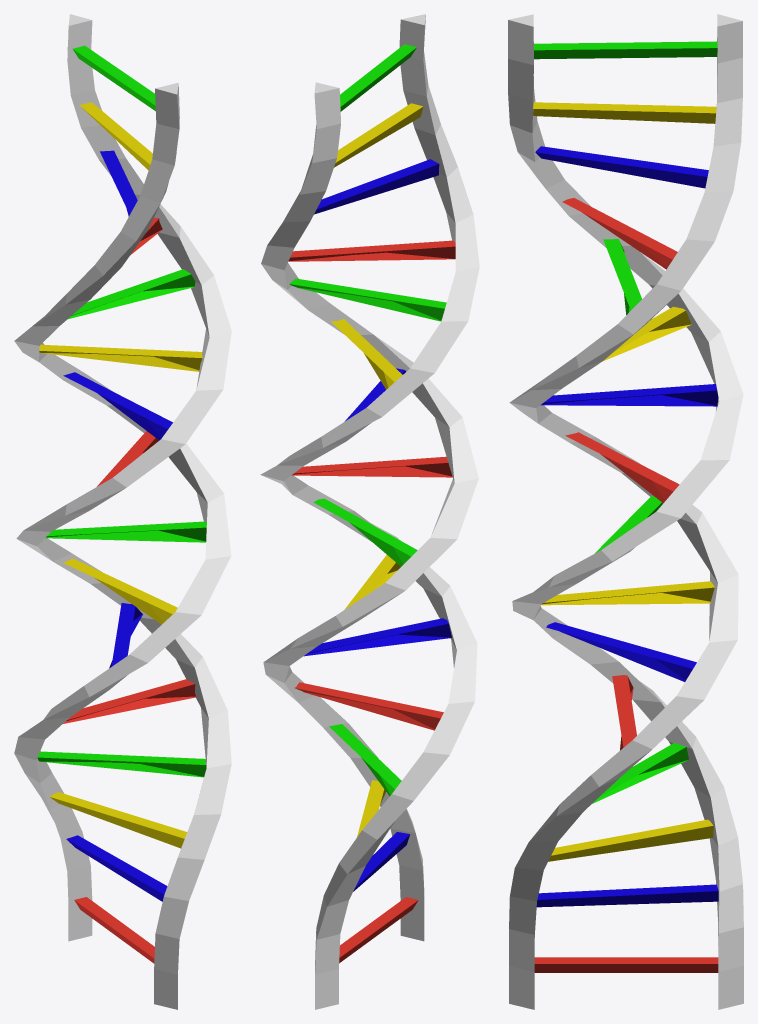
The model's file is DNA.fbx.
The picture shows the model from 3 angles, left to right: view 1: azimuth 30°, elevation 25°; view 2: azimuth 150°, elevation 25°; view 3: azimuth 270°, elevation 25°; orthographic projection. The views are drawn at different scales.
Parts seen in each view (by area): view 1: Cube; view 2: Cube; view 3: Cube.
Boxes of the visible parts, x1=… form: Cube: x1=14, y1=14, x2=231, y2=1009; Cube: x1=260, y1=14, x2=479, y2=1009; Cube: x1=508, y1=14, x2=743, y2=1009.
Bounding box in the file's own units: 378 × 1747 × 380.
